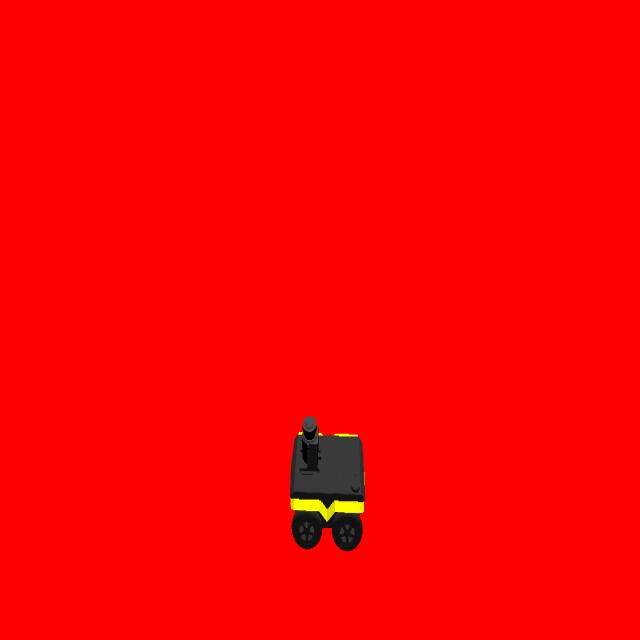jackal: (289, 414, 366, 550)
